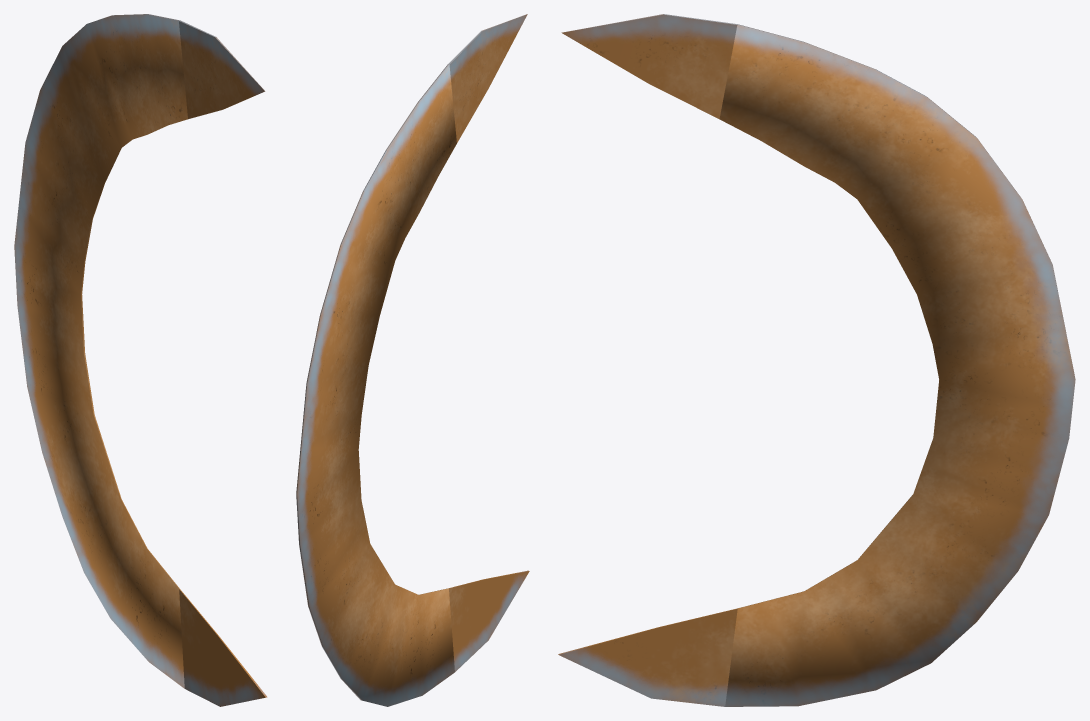
The model's file is SlashV.FBX.
3 renders of one model, left to right at view 1: azimuth 30°, elevation 25°; view 2: azimuth 150°, elevation 25°; view 3: azimuth 270°, elevation 25°, orthographic. The views are drawn at different scales.
Visible parts, largest first — view 1: Vertical; view 2: Vertical; view 3: Vertical.
Boxes of the visible parts, box(x1,y1,x2,y2) form: Vertical: box(14, 14, 267, 706); Vertical: box(296, 14, 529, 706); Vertical: box(558, 14, 1075, 706).
Size of the model in its own units: 1.19 by 243 by 165.
1 material, 1 textured.
